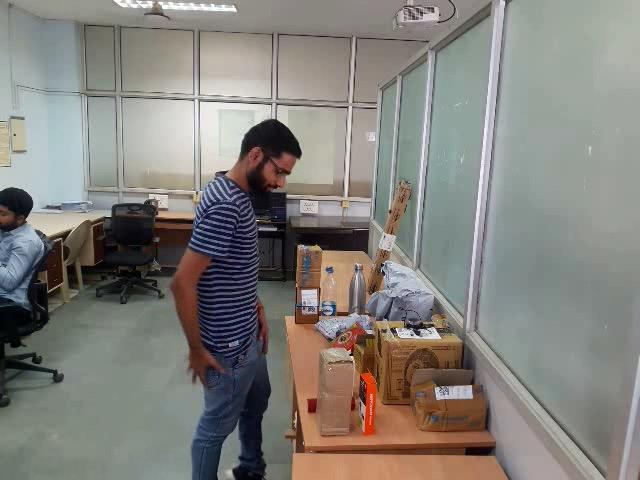Shoplifting: (174, 96, 375, 480)
